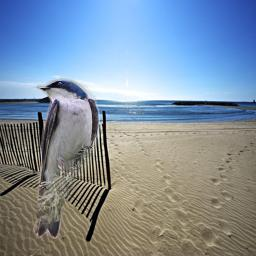Swallow: (31, 78, 100, 239)
